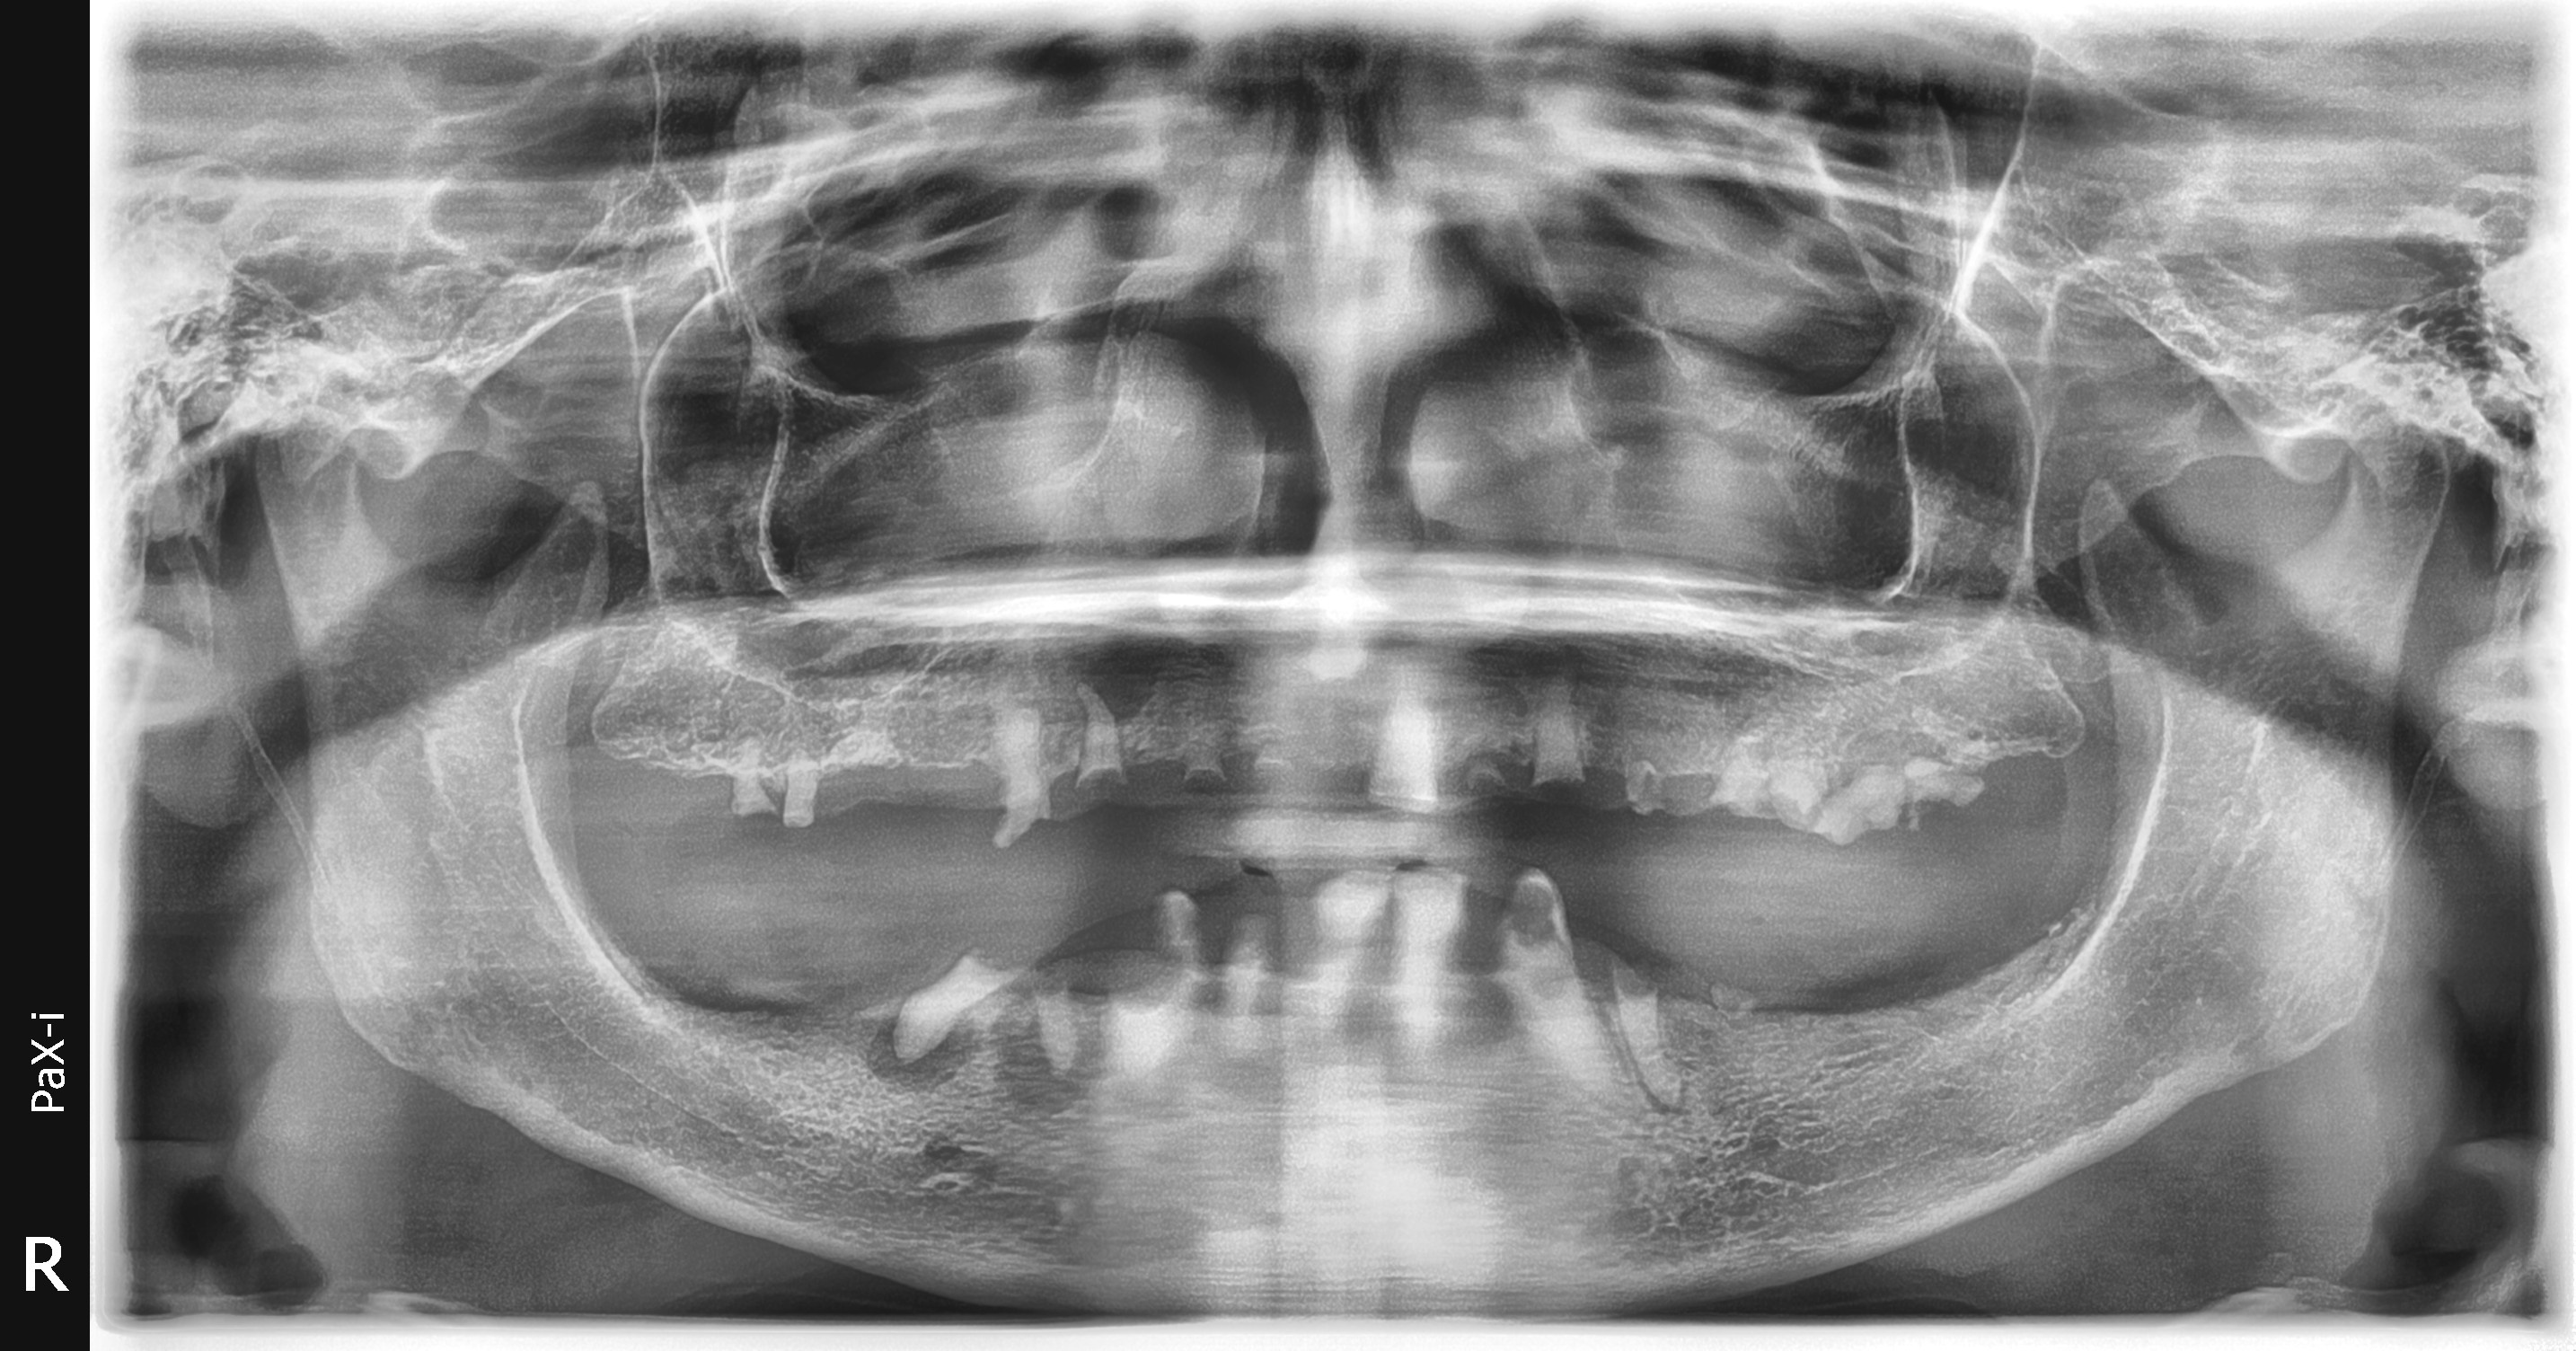API: (857, 1038, 949, 1126), (1007, 1048, 1099, 1130), (1644, 1099, 1705, 1148), (1591, 1087, 1632, 1133)
CAR: (1503, 871, 1576, 980)
ROT: (1114, 886, 1184, 1068), (712, 721, 804, 842), (1392, 680, 1438, 826), (997, 693, 1038, 855), (900, 959, 976, 1044), (1845, 750, 1905, 857), (1637, 964, 1687, 1082), (1228, 894, 1261, 1068), (1544, 666, 1584, 799), (1044, 959, 1092, 1072), (1078, 680, 1116, 809), (1198, 690, 1230, 818), (1724, 738, 1763, 836), (859, 707, 905, 790), (1922, 741, 1975, 806), (1726, 959, 1763, 1038), (1249, 733, 1298, 787), (1634, 744, 1663, 826), (1467, 748, 1499, 806), (1797, 744, 1818, 818)
